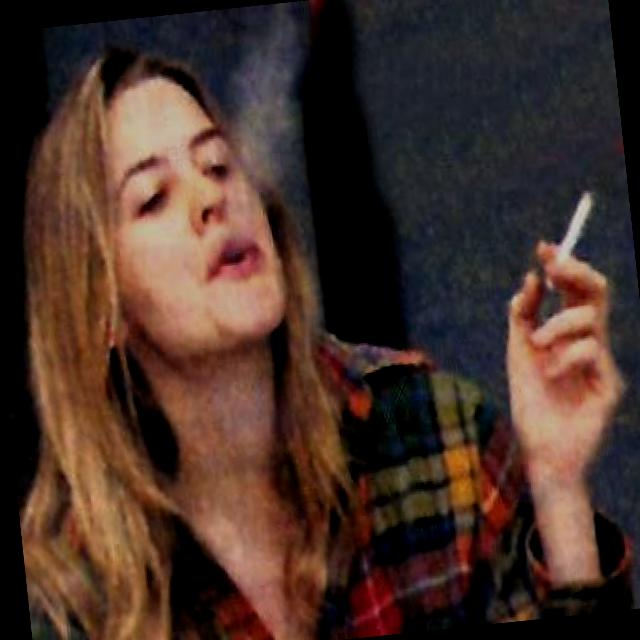cigarette: (497, 153, 626, 336)
